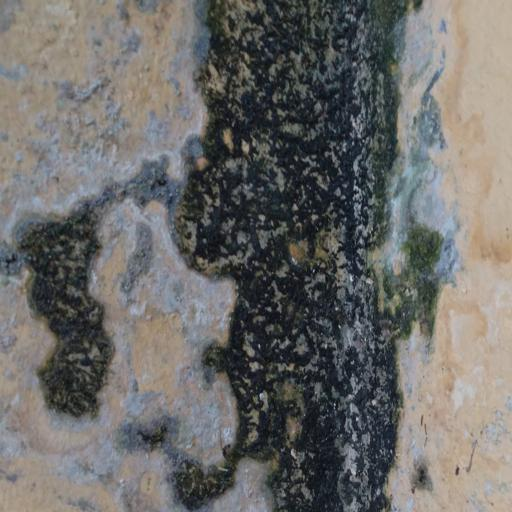algae: (153, 0, 461, 512)
